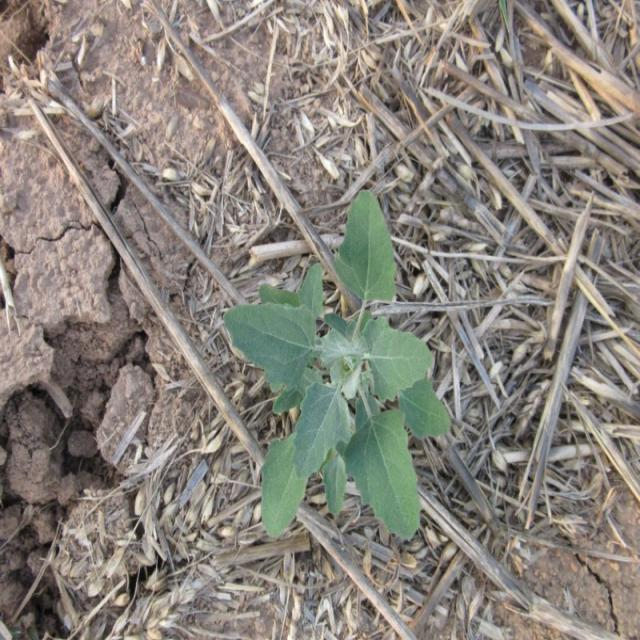ca: (221, 192, 452, 539)
